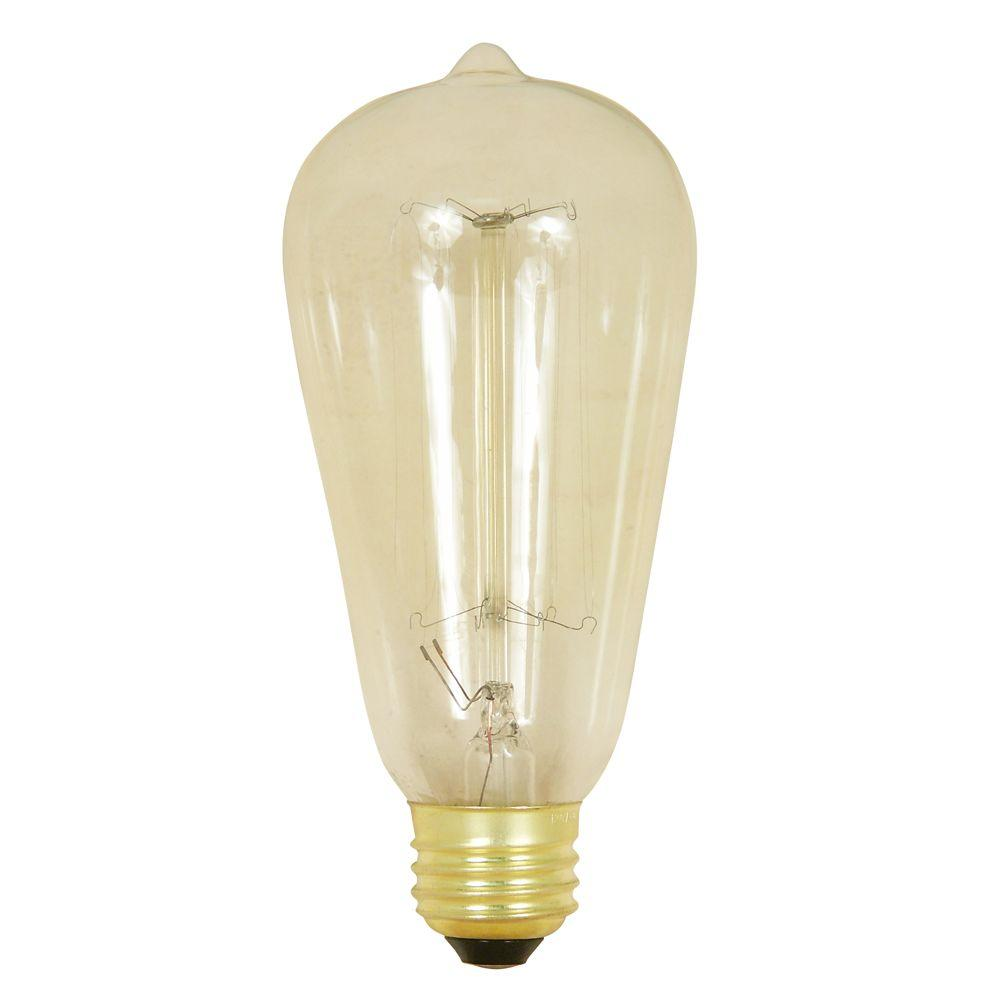Nonrec_Glass: (252, 8, 699, 953)
